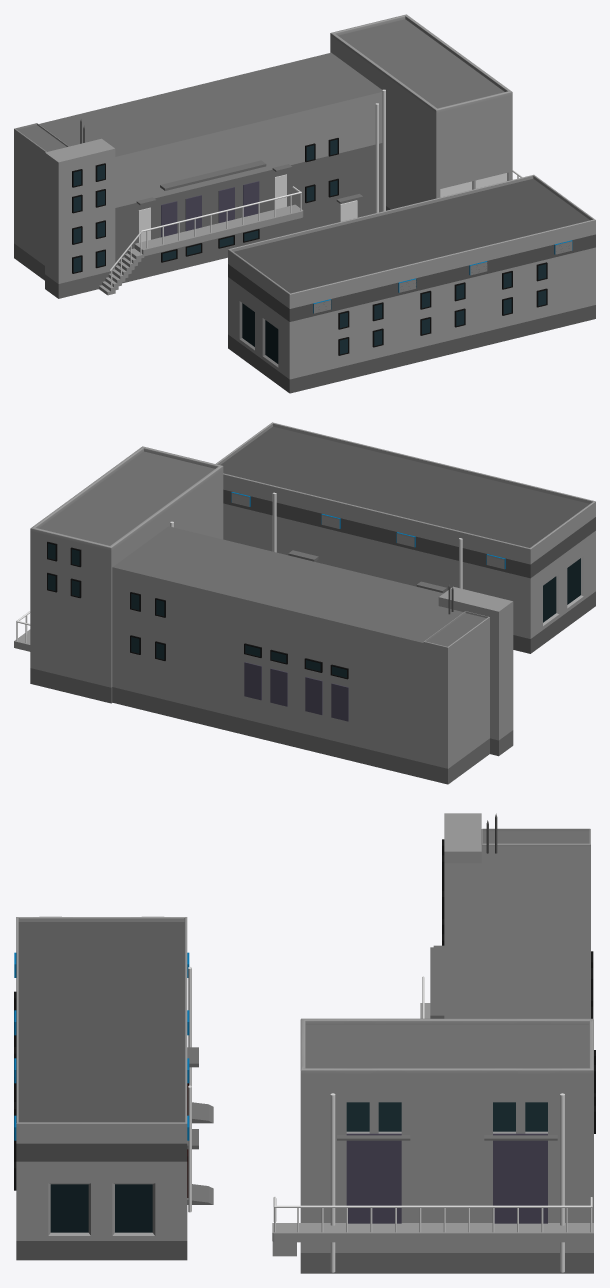
Rendered from hsll.fbx.
3 renders of one model, top to bottom at view 1: azimuth 30°, elevation 25°; view 2: azimuth 150°, elevation 25°; view 3: azimuth 270°, elevation 25°, orthographic. The views are drawn at different scales.
Visible parts, largest first — view 1: pCube98, pCube97, pCube2; view 2: pCube98, pCube97, pCube2; view 3: pCube2, pCube97, pCube98, pCube3, pCylinder1, pCylinder24, pCylinder2.
Boxes of the visible parts, left/top/right/bottom form: pCube98: left=14, top=52, right=382, bottom=298; pCube97: left=228, top=174, right=595, bottom=393; pCube2: left=330, top=14, right=512, bottom=210; pCube98: left=112, top=526, right=513, bottom=784; pCube97: left=216, top=422, right=595, bottom=653; pCube2: left=30, top=446, right=223, bottom=703; pCube2: left=300, top=1018, right=593, bottom=1273; pCube97: left=14, top=916, right=213, bottom=1260; pCube98: left=420, top=813, right=593, bottom=1018; pCube3: left=272, top=1223, right=593, bottom=1242; pCylinder1: left=330, top=1093, right=335, bottom=1272; pCylinder24: left=275, top=1205, right=591, bottom=1207; pCylinder2: left=560, top=1093, right=564, bottom=1272.
Bounding box in the file's own units: 27.3 × 9.8 × 23.83.
